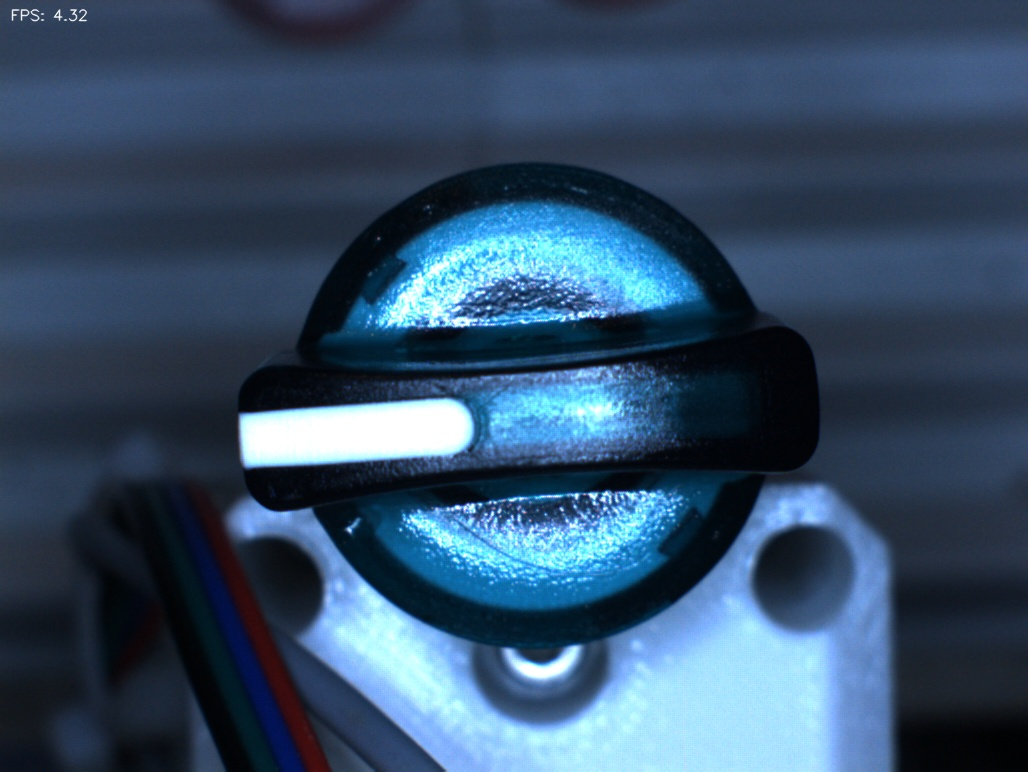Choc: (322, 494, 384, 556)
